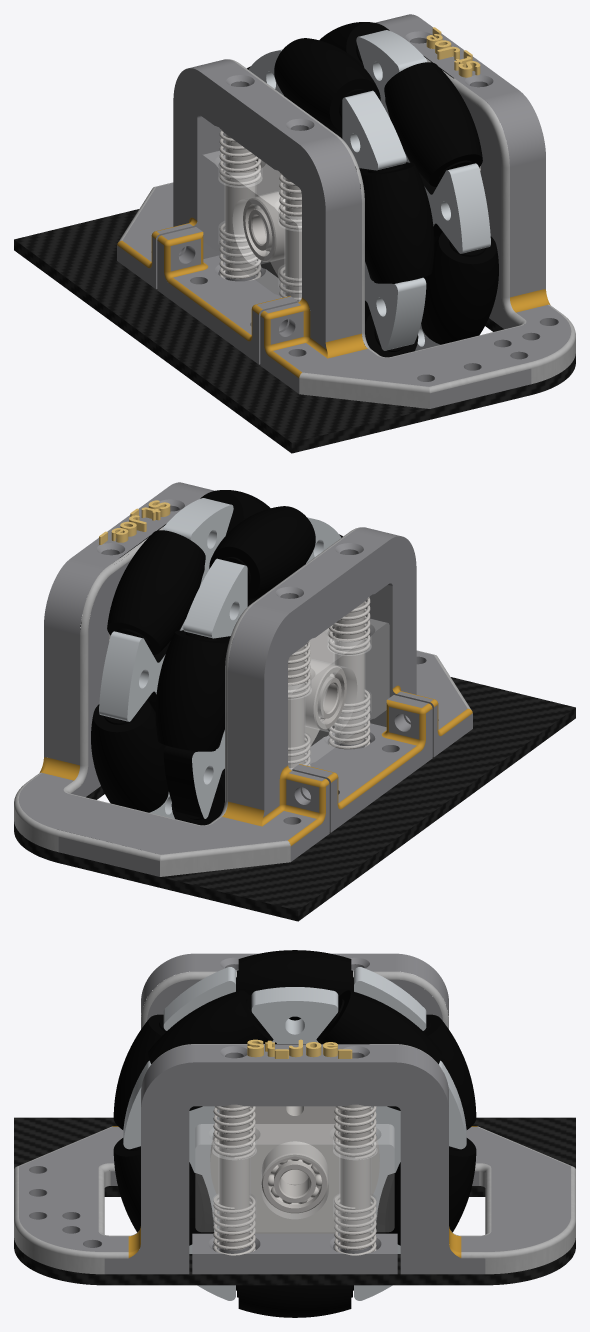
The model's file is 悬挂新版.glb.
The picture shows the model from 3 angles, top to bottom: view 1: azimuth 30°, elevation 25°; view 2: azimuth 150°, elevation 25°; view 3: azimuth 270°, elevation 25°; orthographic projection.
Size of the model in its own units: 0.0613 by 0.06 by 0.093.
Materials: 11 (3 with a texture image).
